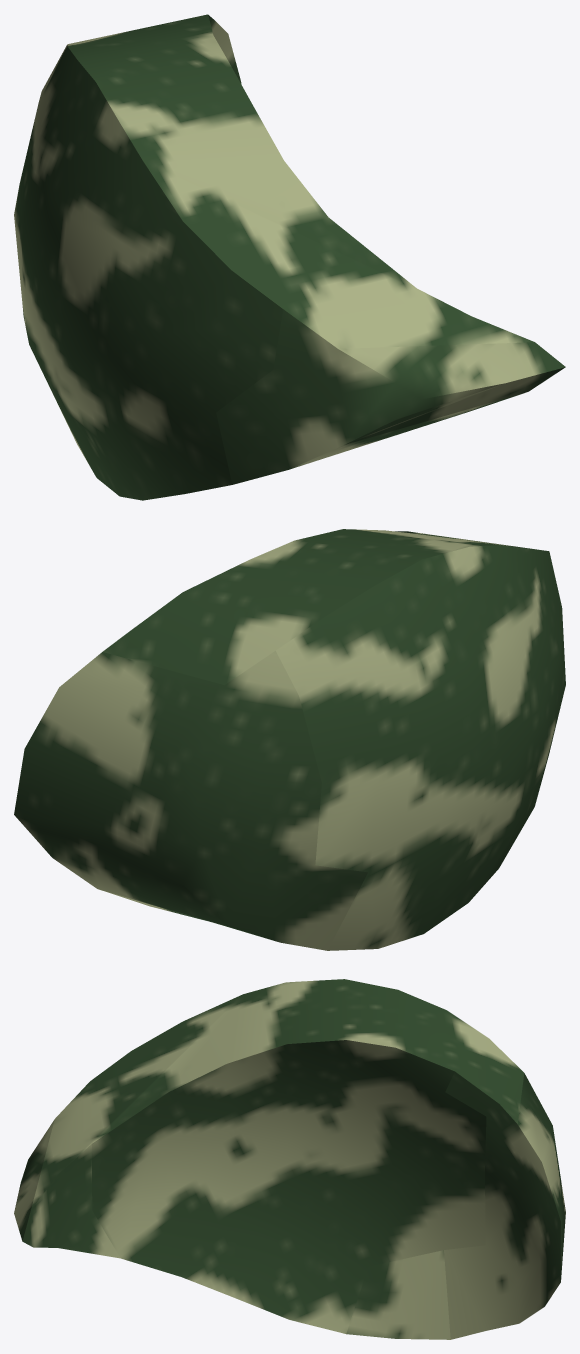
File: link_body_23_composite.obj
3 renders of one model, top to bottom at view 1: azimuth 30°, elevation 25°; view 2: azimuth 150°, elevation 25°; view 3: azimuth 270°, elevation 25°, orthographic. The views are drawn at different scales.
Visible parts, largest first — view 1: link_body_23; view 2: link_body_23; view 3: link_body_23.
Part boxes in pixels (left/top/right/bottom): link_body_23: left=14, top=14, right=565, bottom=500; link_body_23: left=14, top=529, right=565, bottom=950; link_body_23: left=14, top=979, right=565, bottom=1339.
Size of the model in its own units: 7.62 by 8.14 by 13.03.
Materials: 1 (1 with a texture image).
